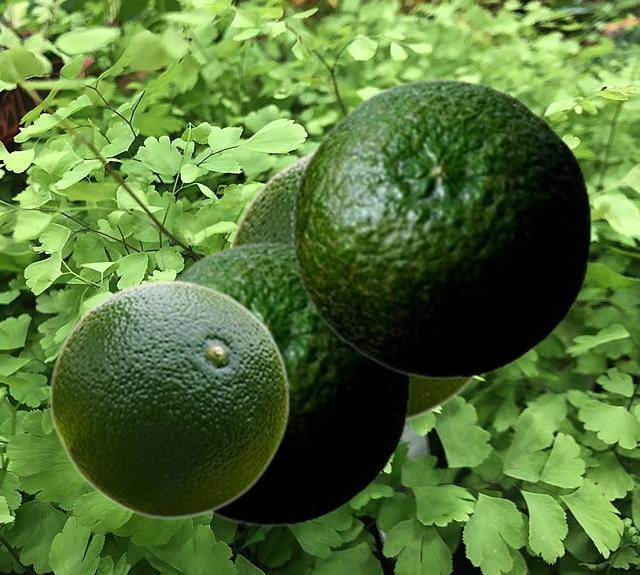calamansi: (291, 77, 591, 379), (224, 146, 480, 425), (171, 241, 409, 526), (48, 279, 290, 518)
